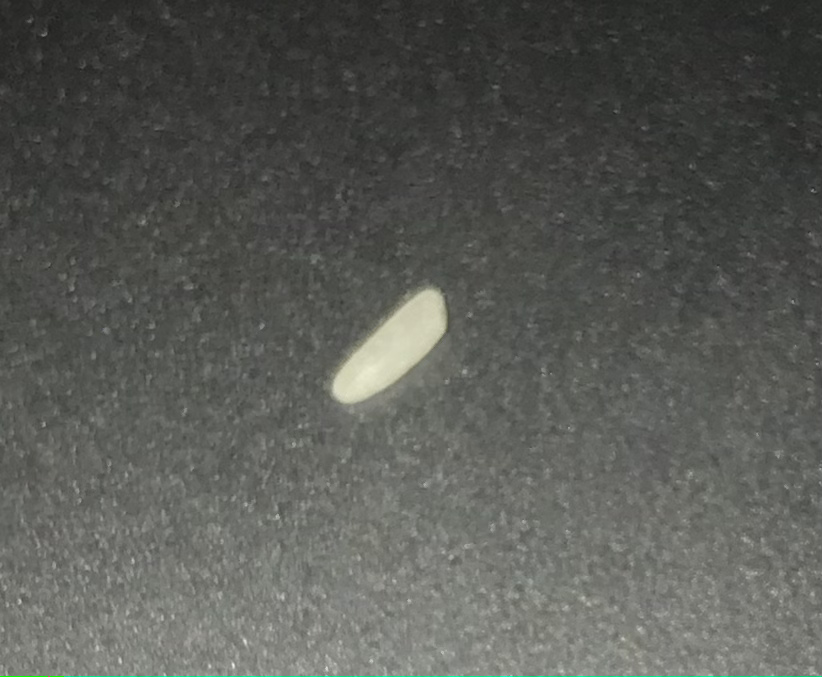Gao Tam Thom: (325, 270, 460, 410)
